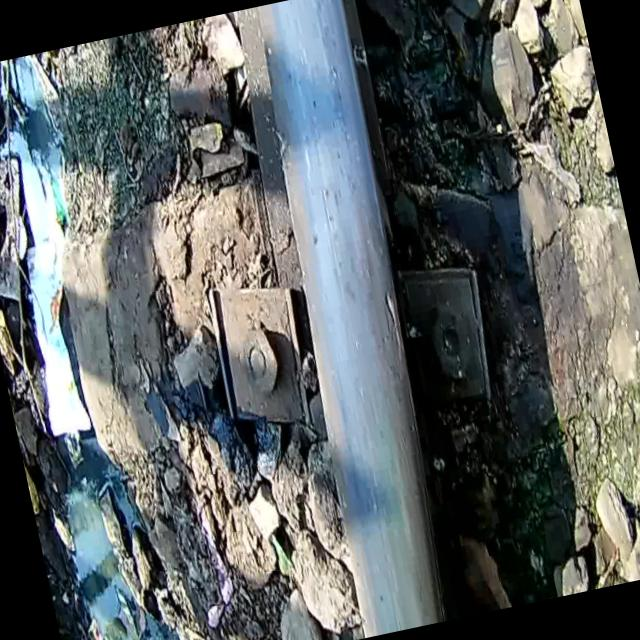Shellings: (383, 372, 460, 623)
Spallings: (369, 278, 413, 372)
